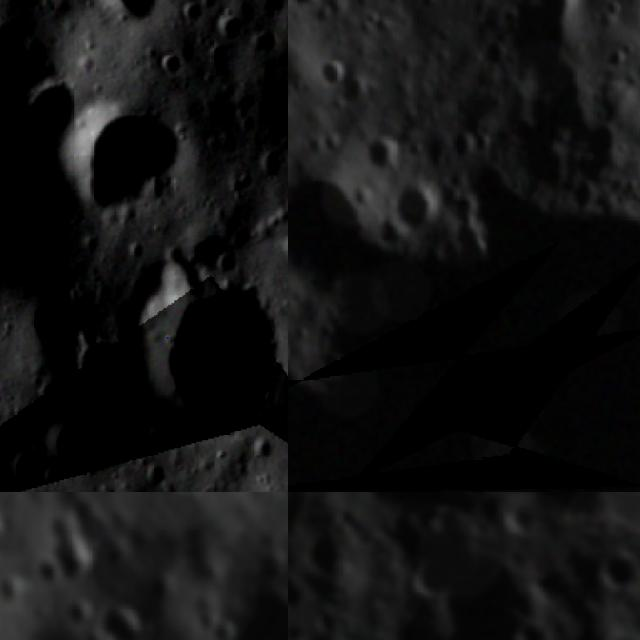crater: (146, 254, 288, 437), (66, 86, 195, 225), (288, 156, 391, 282), (496, 0, 589, 75), (47, 500, 101, 590), (295, 525, 360, 586), (71, 336, 126, 407), (224, 579, 288, 640), (392, 175, 448, 234), (405, 552, 461, 608), (588, 543, 640, 595), (89, 0, 166, 33), (48, 414, 94, 465), (98, 596, 145, 640), (5, 443, 48, 491), (365, 130, 401, 179), (55, 590, 96, 630), (558, 173, 602, 210), (310, 51, 347, 88), (508, 611, 555, 640), (469, 124, 503, 162), (154, 46, 188, 82), (27, 553, 63, 585), (448, 125, 478, 162), (186, 598, 217, 632), (250, 28, 276, 62), (205, 614, 239, 640), (214, 12, 243, 41), (0, 571, 24, 605), (204, 44, 230, 70), (321, 126, 345, 154), (606, 43, 628, 72), (183, 0, 204, 28), (288, 0, 332, 10), (288, 329, 298, 368)
